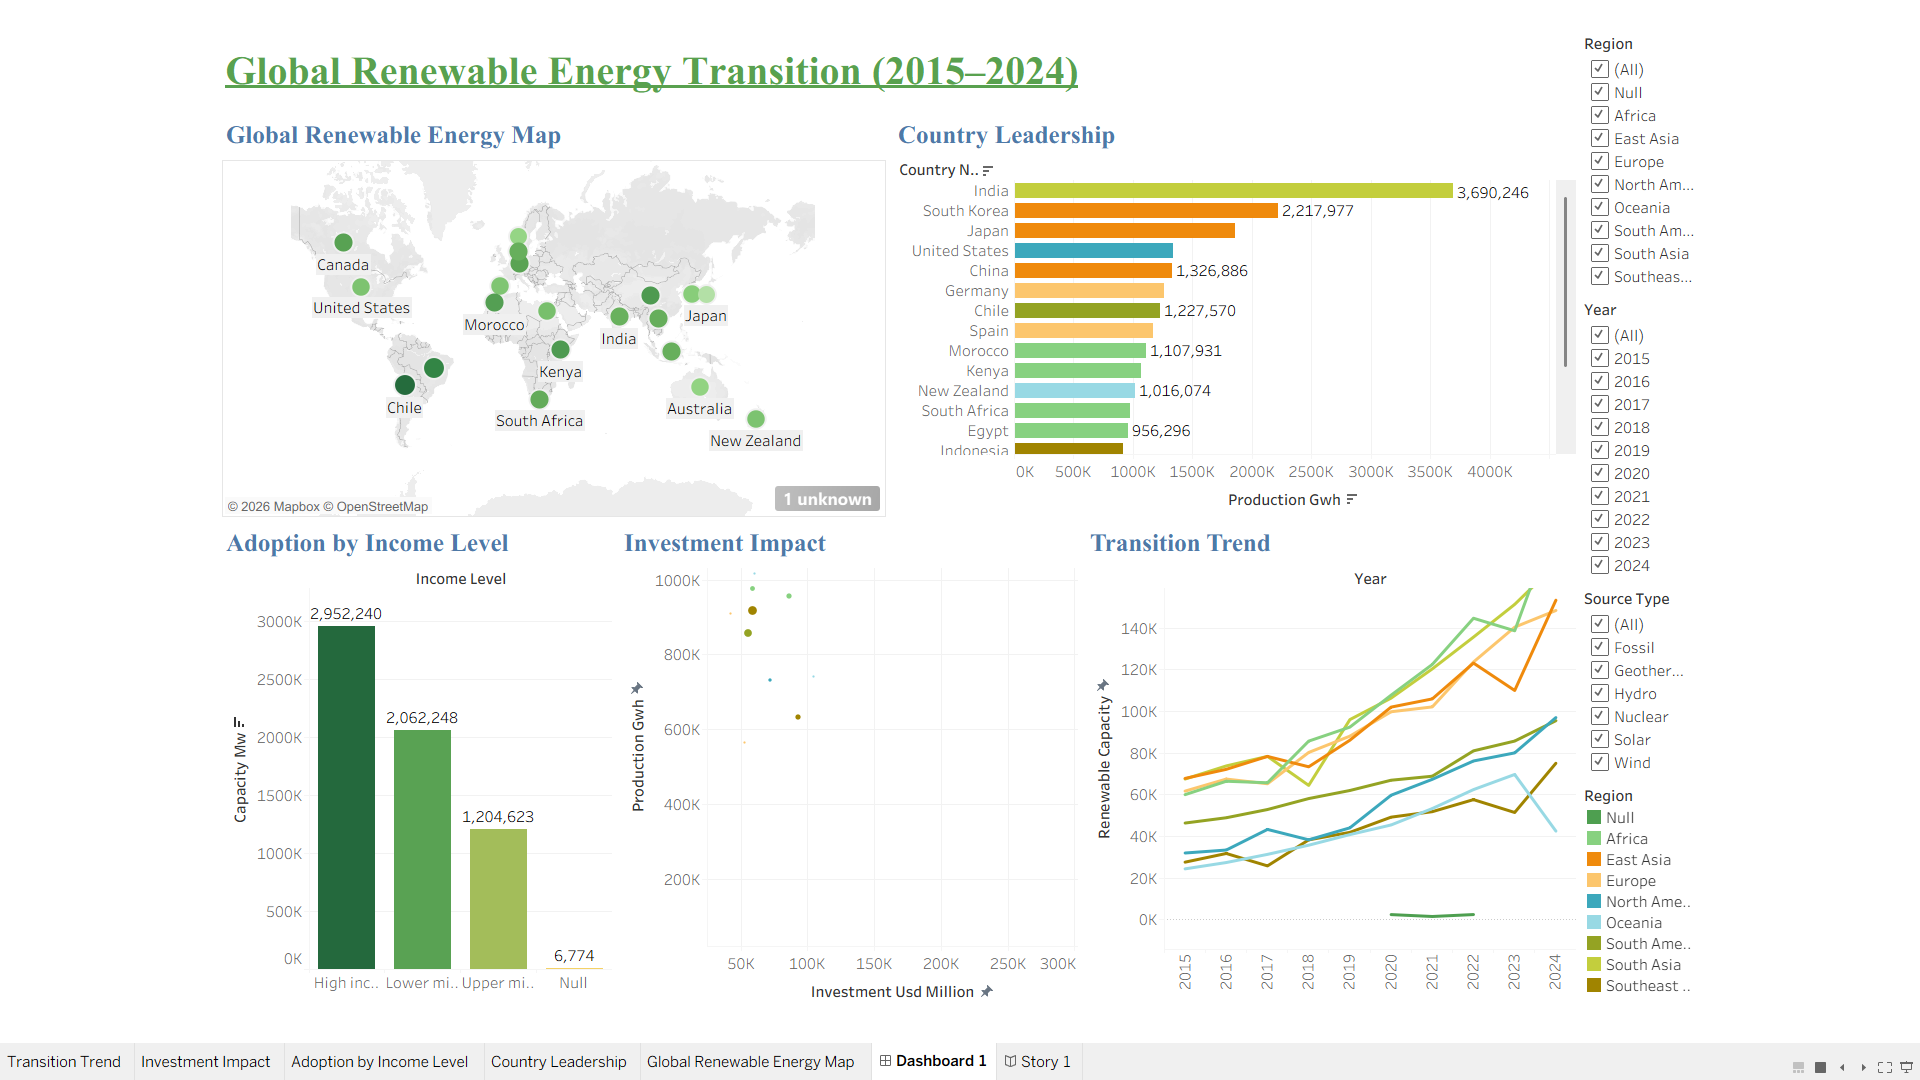

Layout of this report page (visuals, bound fields, positions):
{"tool":"tableau","page":{"name":"Dashboard 1","canvas":[1500,1000],"ordinal":0},"visuals":[{"type":"text","box":[8,8,1362,84]},{"type":"filter","title":"Global Renewable Energy Map","param":"[federated.1na25ty0nosq2h1bx3x4m0sydfcm].[none:region:nk]","box":[1370,8,122,266]},{"type":"worksheet","title":"Global Renewable Energy Map","mark":"Automatic","box":[8,92,672,408]},{"type":"worksheet","title":"Country Leadership","mark":"Bar","rows":["country_name"],"cols":["production_gwh"],"box":[680,92,690,408]},{"type":"filter","title":"Global Renewable Energy Map","param":"[federated.1na25ty0nosq2h1bx3x4m0sydfcm].[none:year:nk]","box":[1370,274,122,289]},{"type":"worksheet","title":"Adoption by Income Level","mark":"Automatic","rows":["capacity_mw"],"cols":["income_level"],"box":[8,500,398,492]},{"type":"worksheet","title":"Investment Impact","mark":"Circle","rows":["production_gwh"],"cols":["investment_usd_million"],"box":[406,500,466,492]},{"type":"worksheet","title":"Transition Trend","mark":"Line","rows":["Calculation_5038463591665665"],"cols":["year"],"box":[872,500,498,492]},{"type":"filter","title":"Country Leadership","param":"[federated.1na25ty0nosq2h1bx3x4m0sydfcm].[none:source_type:nk]","box":[1370,563,122,197]},{"type":"legend","title":"Country Leadership","param":"[federated.1na25ty0nosq2h1bx3x4m0sydfcm].[none:region:nk]","box":[1370,760,122,219]}]}

Visuals, with their boxes on the page's 1500x1000 design canvas (x1, y1, x2, y2). These are canvas units, not pixel positions in the 1920x1080 screenshot, which may show the page scaled, cropped or inside an application window:
text: (8, 8, 1370, 92)
"Global Renewable Energy Map" filter: (1370, 8, 1492, 274)
"Global Renewable Energy Map" worksheet: (8, 92, 680, 500)
"Country Leadership" worksheet (Bar marks): (680, 92, 1370, 500)
"Global Renewable Energy Map" filter: (1370, 274, 1492, 563)
"Adoption by Income Level" worksheet: (8, 500, 406, 992)
"Investment Impact" worksheet (Circle marks): (406, 500, 872, 992)
"Transition Trend" worksheet (Line marks): (872, 500, 1370, 992)
"Country Leadership" filter: (1370, 563, 1492, 760)
"Country Leadership" legend: (1370, 760, 1492, 979)
